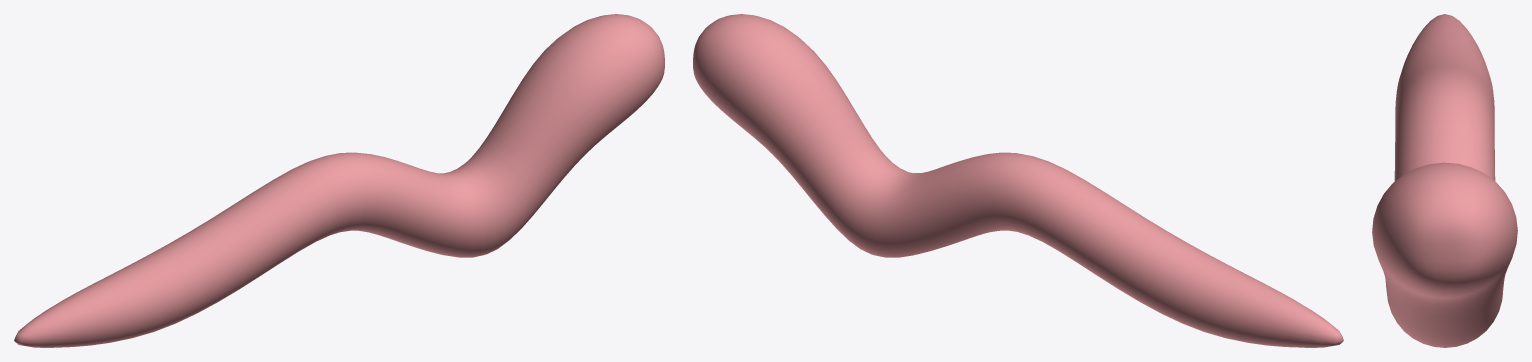
File: PdV_Model_Worm_Color.fbx
The picture shows the model from 3 angles, left to right: view 1: azimuth 30°, elevation 25°; view 2: azimuth 150°, elevation 25°; view 3: azimuth 270°, elevation 25°; orthographic projection. The views are drawn at different scales.
Visible parts, largest first — view 1: Worm; view 2: Worm; view 3: Worm.
Boxes of the visible parts, x1,y1,x2,y2 form: Worm: (14,14,664,347); Worm: (693,14,1343,347); Worm: (1372,14,1517,347).
Bounding box in the file's own units: 257 × 38.75 × 76.24.
